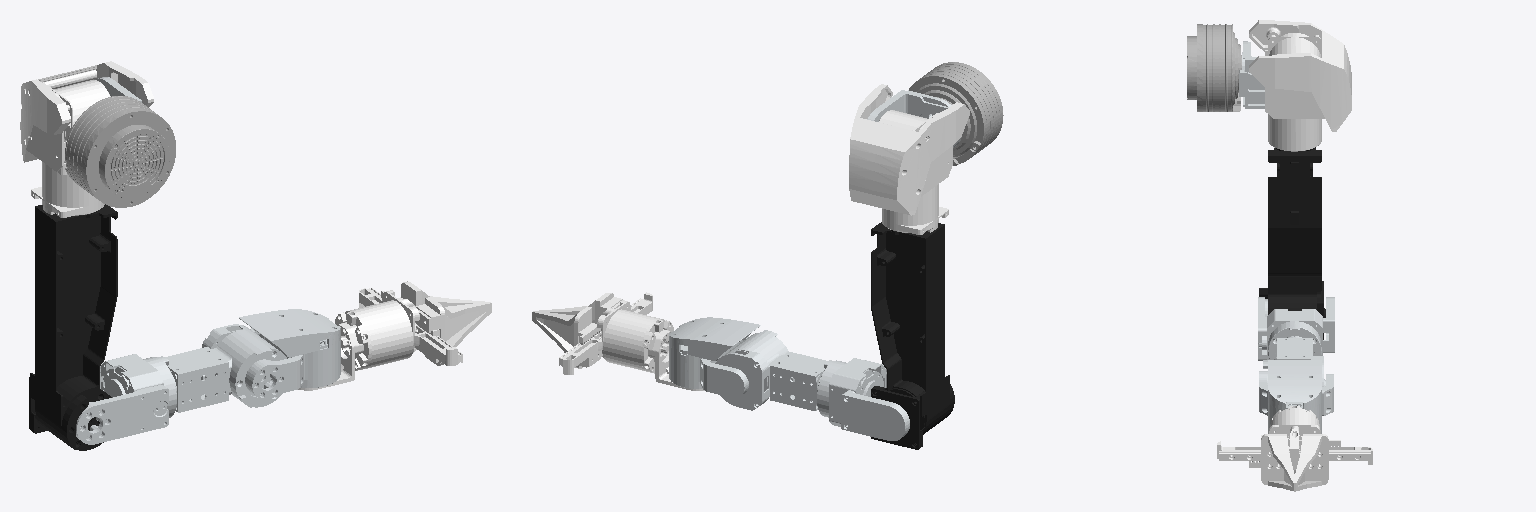
robot.urdf — left240929X7C:
<?xml version="1.0" encoding="utf-8"?>
<!-- This URDF was automatically created by SolidWorks to URDF Exporter! Originally created by [author] ([email redacted]) 
     Commit Version: 1.6.0-4-g7f85cfe  Build Version: 1.6.7995.38578
     For more information, please see http://wiki.ros.org/sw_urdf_exporter -->
<robot
  name="left240929X7C">
  <link
    name="base_link">
    <inertial>
      <origin
        xyz="-8.8081E-05 0.033229 -0.00037726"
        rpy="0 0 0" />
      <mass
        value="0.91034" />
      <inertia
        ixx="0.00069"
        ixy="0.00000"
        ixz="0.00000"
        iyy="0.00103"
        iyz="-0.00001"
        izz="0.00068" />
    </inertial>
    <visual>
      <origin
        xyz="0 0 0"
        rpy="0 0 0" />
      <geometry>
        <mesh
          filename="package://left240929X7C/meshes/base_link.STL" />
      </geometry>
      <material
        name="">
        <color
          rgba="0.75294 0.75294 0.75294 1" />
      </material>
    </visual>
    <collision>
      <origin
        xyz="0 0 0"
        rpy="0 0 0" />
      <geometry>
        <mesh
          filename="package://left240929X7C/meshes/base_link.STL" />
      </geometry>
    </collision>
  </link>
  <link
    name="link1">
    <inertial>
      <origin
        xyz="0.022412 0.024326 3.4694E-18"
        rpy="0 0 0" />
      <mass
        value="0.12945" />
      <inertia
        ixx="0.00012"
        ixy="0.00003"
        ixz="0.00000"
        iyy="0.00008"
        iyz="0.00000"
        izz="0.00013" />
    </inertial>
    <visual>
      <origin
        xyz="0 0 0"
        rpy="0 0 0" />
      <geometry>
        <mesh
          filename="package://left240929X7C/meshes/link1.STL" />
      </geometry>
      <material
        name="">
        <color
          rgba="0.89804 0.91765 0.92941 1" />
      </material>
    </visual>
    <collision>
      <origin
        xyz="0 0 0"
        rpy="0 0 0" />
      <geometry>
        <mesh
          filename="package://left240929X7C/meshes/link1.STL" />
      </geometry>
    </collision>
  </link>
  <joint
    name="joint1"
    type="revolute">
    <origin
      xyz="0 0.0617 0"
      rpy="0 0 0" />
    <parent
      link="base_link" />
    <child
      link="link1" />
    <axis
      xyz="0 1 0" />
    <limit
      lower="-10"
      upper="10"
      effort="100"
      velocity="1000" />
  </joint>
  <link
    name="link2">
    <inertial>
      <origin
        xyz="0.024724 -0.0029579 -0.027165"
        rpy="0 0 0" />
      <mass
        value="0.97401" />
      <inertia
        ixx="0.00152"
        ixy="0.00002"
        ixz="-0.00007"
        iyy="0.00152"
        iyz="-0.00003"
        izz="0.00073" />
    </inertial>
    <visual>
      <origin
        xyz="0 0 0"
        rpy="0 0 0" />
      <geometry>
        <mesh
          filename="package://left240929X7C/meshes/link2.STL" />
      </geometry>
      <material
        name="">
        <color
          rgba="1 1 1 1" />
      </material>
    </visual>
    <collision>
      <origin
        xyz="0 0 0"
        rpy="0 0 0" />
      <geometry>
        <mesh
          filename="package://left240929X7C/meshes/link2.STL" />
      </geometry>
    </collision>
  </link>
  <joint
    name="joint2"
    type="revolute">
    <origin
      xyz="0.02725 0.0585 0"
      rpy="0 0 3.1416" />
    <parent
      link="link1" />
    <child
      link="link2" />
    <axis
      xyz="1 0 0" />
    <limit
      lower="-10"
      upper="10"
      effort="100"
      velocity="1000" />
  </joint>
  <link
    name="link3">
    <inertial>
      <origin
        xyz="-0.000603856860717302 0.00146509958304586 0.176970366958019"
        rpy="0 0 0" />
      <mass
        value="0.645309511385429" />
      <inertia
        ixx="0.00336"
        ixy="-0.00001"
        ixz="-0.00007"
        iyy="0.00340"
        iyz="0.00003"
        izz="0.00037" />
    </inertial>
    <visual>
      <origin
        xyz="0 0 0"
        rpy="0 0 0" />
      <geometry>
        <mesh
          filename="package://left240929X7C/meshes/link3.STL" />
      </geometry>
      <material
        name="">
        <color
          rgba="0.180392156862745 0.180392156862745 0.180392156862745 1" />
      </material>
    </visual>
    <collision>
      <origin
        xyz="0 0 0"
        rpy="0 0 0" />
      <geometry>
        <mesh
          filename="package://left240929X7C/meshes/link3.STL" />
      </geometry>
    </collision>
  </link>
  <joint
    name="joint3"
    type="revolute">
    <origin
      xyz="0.02725 0 -0.0865"
      rpy="3.1416 0 -3.1416" />
    <parent
      link="link2" />
    <child
      link="link3" />
    <axis
      xyz="0 0 1" />
    <limit
      lower="-10"
      upper="10"
      effort="100"
      velocity="1000" />
  </joint>
  <link
    name="link4">
    <inertial>
      <origin
        xyz="0.061438 -0.025532 -6.4541E-05"
        rpy="0 0 0" />
      <mass
        value="0.47971" />
      <inertia
        ixx="0.00037"
        ixy="0.00000"
        ixz="0.00000"
        iyy="0.00041"
        iyz="0.00000"
        izz="0.00057" />
    </inertial>
    <visual>
      <origin
        xyz="0 0 0"
        rpy="0 0 0" />
      <geometry>
        <mesh
          filename="package://left240929X7C/meshes/link4.STL" />
      </geometry>
      <material
        name="">
        <color
          rgba="0.89804 0.91765 0.92941 1" />
      </material>
    </visual>
    <collision>
      <origin
        xyz="0 0 0"
        rpy="0 0 0" />
      <geometry>
        <mesh
          filename="package://left240929X7C/meshes/link4.STL" />
      </geometry>
    </collision>
  </link>
  <joint
    name="joint4"
    type="revolute">
    <origin
      xyz="0 0.02725 0.2165"
      rpy="0 0 0" />
    <parent
      link="link3" />
    <child
      link="link4" />
    <axis
      xyz="0 1 0" />
    <limit
      lower="-10"
      upper="10"
      effort="100"
      velocity="1000" />
  </joint>
  <link
    name="link5">
    <inertial>
      <origin
        xyz="0.086903 -0.0012022 -3.8207E-05"
        rpy="0 0 0" />
      <mass
        value="0.48642" />
      <inertia
        ixx="0.00023"
        ixy="-0.00001"
        ixz="0.00000"
        iyy="0.00046"
        iyz="0.00000"
        izz="0.00047" />
    </inertial>
    <visual>
      <origin
        xyz="0 0 0"
        rpy="0 0 0" />
      <geometry>
        <mesh
          filename="package://left240929X7C/meshes/link5.STL" />
      </geometry>
      <material
        name="">
        <color
          rgba="0.89804 0.91765 0.92941 1" />
      </material>
    </visual>
    <collision>
      <origin
        xyz="0 0 0"
        rpy="0 0 0" />
      <geometry>
        <mesh
          filename="package://left240929X7C/meshes/link5.STL" />
      </geometry>
    </collision>
  </link>
  <joint
    name="joint5"
    type="revolute">
    <origin
      xyz="0.0935 -0.02725 0"
      rpy="-3.1416 0 0" />
    <parent
      link="link4" />
    <child
      link="link5" />
    <axis
      xyz="1 0 0" />
    <limit
      lower="-10"
      upper="10"
      effort="100"
      velocity="1000" />
  </joint>
  <link
    name="link6">
    <inertial>
      <origin
        xyz="0.05699 -0.026882 -0.0013527"
        rpy="0 0 0" />
      <mass
        value="0.43885" />
      <inertia
        ixx="0.00026"
        ixy="-0.00001"
        ixz="0.00002"
        iyy="0.00034"
        iyz="0.00000"
        izz="0.00043" />
    </inertial>
    <visual>
      <origin
        xyz="0 0 0"
        rpy="0 0 0" />
      <geometry>
        <mesh
          filename="package://left240929X7C/meshes/link6.STL" />
      </geometry>
      <material
        name="">
        <color
          rgba="0.89804 0.91765 0.92941 1" />
      </material>
    </visual>
    <collision>
      <origin
        xyz="0 0 0"
        rpy="0 0 0" />
      <geometry>
        <mesh
          filename="package://left240929X7C/meshes/link6.STL" />
      </geometry>
    </collision>
  </link>
  <joint
    name="joint6"
    type="revolute">
    <origin
      xyz="0.0955 -0.02725 0"
      rpy="3.1416 0 0" />
    <parent
      link="link5" />
    <child
      link="link6" />
    <axis
      xyz="0 1 0" />
    <limit
      lower="-10"
      upper="10"
      effort="100"
      velocity="1000" />
  </joint>
  <link
    name="link7">
    <inertial>
      <origin
        xyz="0.088738 3.4028E-05 0.020625"
        rpy="0 0 0" />
      <mass
        value="0.60087" />
      <inertia
        ixx="0.00049"
        ixy="0.00000"
        ixz="0.00006"
        iyy="0.00074"
        iyz="-0.00001"
        izz="0.00098" />
    </inertial>
    <visual>
      <origin
        xyz="0 0 0"
        rpy="0 0 0" />
      <geometry>
        <mesh
          filename="package://left240929X7C/meshes/link7.STL" />
      </geometry>
      <material
        name="">
        <color
          rgba="1 1 1 1" />
      </material>
    </visual>
    <collision>
      <origin
        xyz="0 0 0"
        rpy="0 0 0" />
      <geometry>
        <mesh
          filename="package://left240929X7C/meshes/link7.STL" />
      </geometry>
    </collision>
  </link>
  <joint
    name="joint7"
    type="revolute">
    <origin
      xyz="0.066 -0.02725 0.022"
      rpy="-3.1416 0 0" />
    <parent
      link="link6" />
    <child
      link="link7" />
    <axis
      xyz="0 0 -1" />
    <limit
      lower="-10"
      upper="10"
      effort="100"
      velocity="1000" />
  </joint>
</robot>

--- Facts derived from the render (not from the file) ---
3 views of the same robot in one strip: view 1: azimuth 30°, elevation 25°; view 2: azimuth 150°, elevation 25°; view 3: azimuth 270°, elevation 25° (orthographic).
Robot: left240929X7C — 8 links, 7 joints (7 revolute); root link base_link; default pose: every joint at zero.
Links seen in each view (by area): view 1: link3, base_link, link7, link2, link6, link4, link5; view 2: link3, link2, link7, link5, link4, link6, base_link, link1; view 3: link2, link3, link7, base_link, link6, link4, link1, link5.
Link boxes in pixels (left/top/right/bottom): link3: left=29, top=204, right=117, bottom=450; base_link: left=65, top=96, right=175, bottom=207; link7: left=298, top=281, right=491, bottom=390; link2: left=20, top=61, right=153, bottom=217; link6: left=239, top=309, right=340, bottom=399; link4: left=76, top=354, right=176, bottom=444; link5: left=165, top=324, right=286, bottom=412; link3: left=871, top=222, right=954, bottom=449; link2: left=849, top=84, right=969, bottom=234; link7: left=532, top=292, right=704, bottom=390; link5: left=715, top=330, right=826, bottom=410; link4: left=817, top=358, right=909, bottom=440; link6: left=669, top=317, right=760, bottom=397; base_link: left=909, top=62, right=1003, bottom=165; link1: left=867, top=90, right=961, bottom=147; link2: left=1249, top=20, right=1351, bottom=151; link3: left=1259, top=147, right=1325, bottom=339; link7: left=1217, top=406, right=1372, bottom=491; base_link: left=1187, top=24, right=1241, bottom=111; link6: left=1259, top=360, right=1333, bottom=433; link4: left=1258, top=297, right=1334, bottom=360; link1: left=1239, top=41, right=1264, bottom=108; link5: left=1263, top=336, right=1325, bottom=386.
Bounding box of the posed robot: 0.5024 × 0.2072 × 0.384 m (x, y, z).
8 mesh visuals loaded from 8 distinct referenced files (8 binary STL).